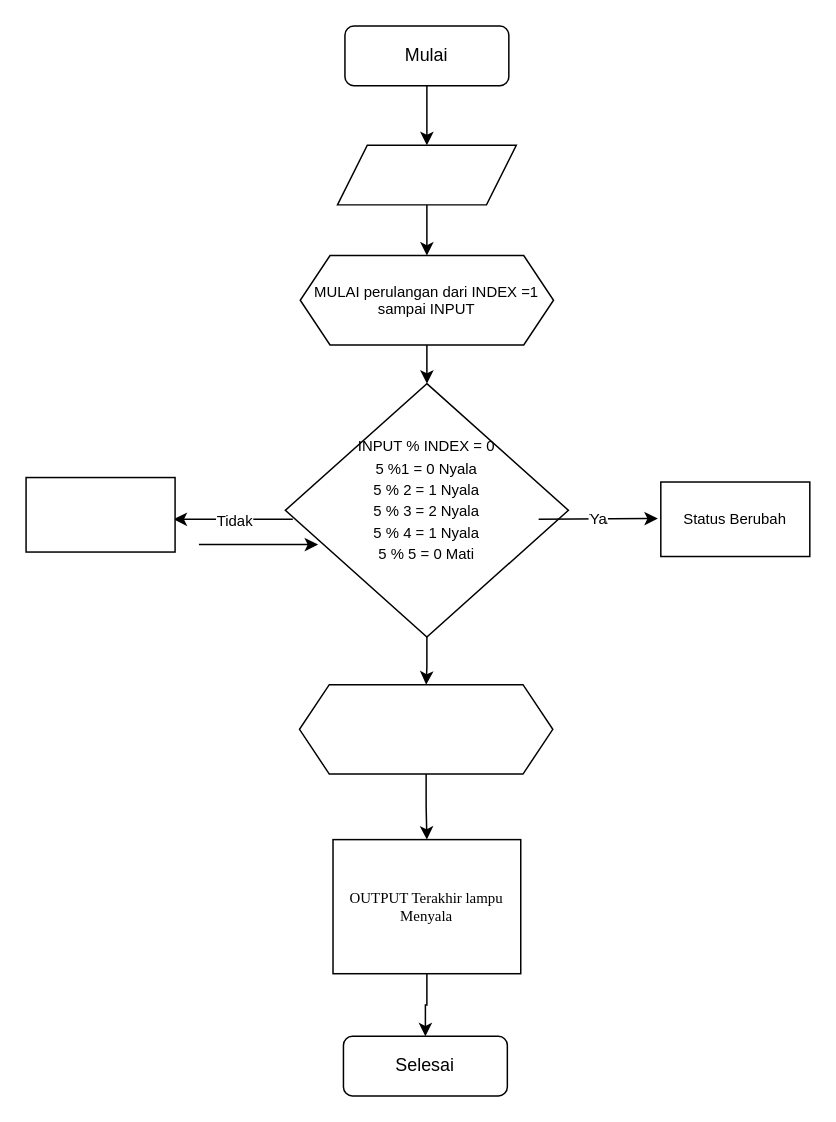
Image size: 836x1122. Some labels were removed from this diagram. Here are the shapes that lost their labels. From the top down, the centre of each, then its label:
At point 426,174: "INPUT N=5".
At point 100,514: "Status tetap".
At point 425,728: "Perulangan Selesai".
